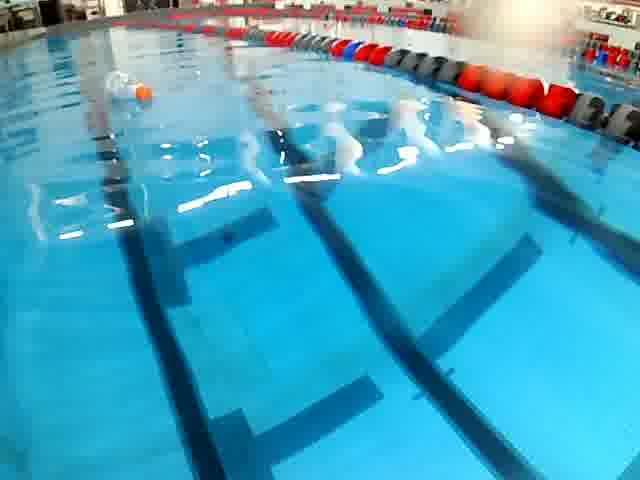Bottle: (99, 65, 164, 107)
